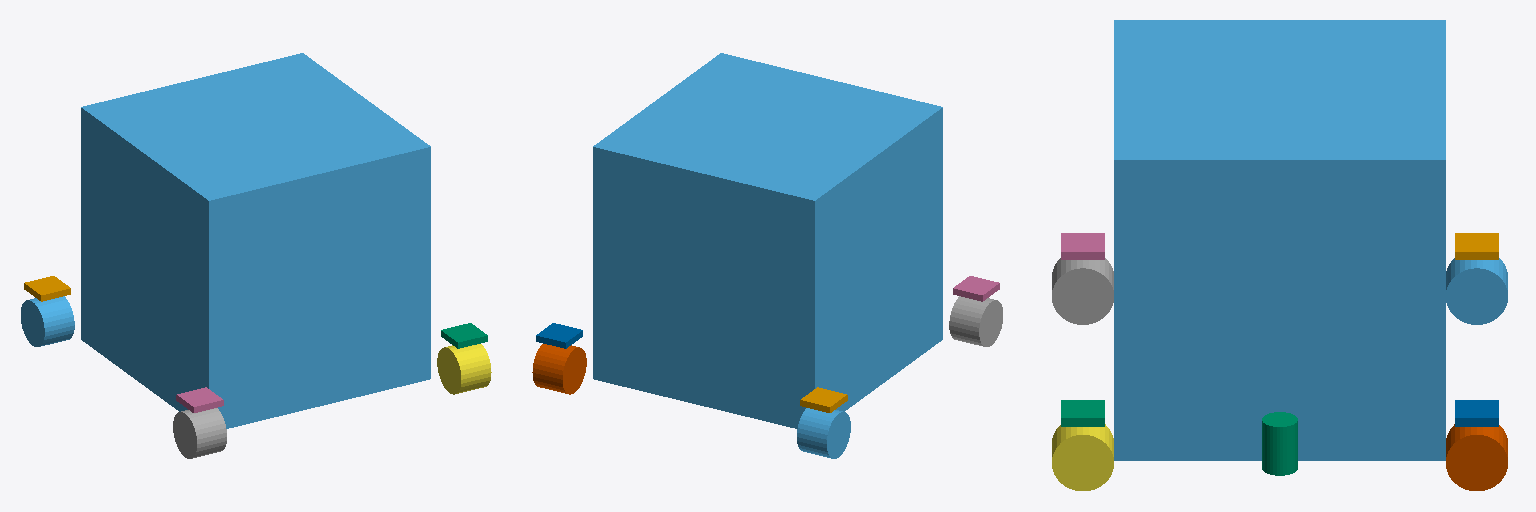
URDF robot description (rr_swerve):
<?xml version="1.0" ?>
<!-- =================================================================================== -->
<!-- |    This document was autogenerated by xacro from swerve_robot.urdf.xacro        | -->
<!-- |    EDITING THIS FILE BY HAND IS NOT RECOMMENDED                                 | -->
<!-- =================================================================================== -->
<robot name="rr_swerve">
  <link name="base_link"/>
  <link name="body">
    <visual>
      <geometry>
        <box size="0.37 0.37 0.37"/>
      </geometry>
    </visual>
    <collision>
      <geometry>
        <box size="0.3515 0.3515 0.3515"/>
      </geometry>
    </collision>
    <inertial>
      <origin rpy="0 0 0" xyz="0 0 0"/>
      <mass value="10"/>
      <inertia ixx="0.22816666666666666" ixy="0" ixz="0" iyx="0" iyy="0.22816666666666666" iyz="0" izx="0" izy="0" izz="0.22816666666666666"/>
    </inertial>
  </link>
  <joint name="base_body_joint" type="fixed">
    <parent link="base_link"/>
    <child link="body"/>
    <origin rpy="0 0 0" xyz="0 0 0.195"/>
    <!-- <limit lower="0" upper="0" effort="0" velocity="0" /> -->
  </joint>
  <link name="wheel_rf_round_table">
    <visual>
      <geometry>
        <box size="0.05 0.01 0.05"/>
      </geometry>
    </visual>
    <collision>
      <geometry>
        <box size="0.0475 0.0095 0.0475"/>
      </geometry>
    </collision>
    <inertial>
      <origin rpy="0 0 0" xyz="0 0 0"/>
      <mass value="0.1"/>
      <inertia ixx="2.166666666666667e-05" ixy="0" ixz="0" iyx="0" iyy="4.166666666666667e-05" iyz="0" izx="0" izy="0" izz="2.166666666666667e-05"/>
    </inertial>
  </link>
  <link name="wheel_rf">
    <visual>
      <geometry>
        <cylinder length="0.05" radius="0.035"/>
      </geometry>
    </visual>
    <collision>
      <geometry>
        <cylinder length="0.05" radius="0.035"/>
      </geometry>
      <surface>
        <friction>
          <ode>
            <mu>1</mu>
            <mu2>1</mu2>
            <slip1>0.035</slip1>
            <slip2>0</slip2>
            <fdir1>0 0 1</fdir1>
          </ode>
        </friction>
      </surface>
    </collision>
    <inertial>
      <origin rpy="0 0 0" xyz="0 0 0"/>
      <mass value="0.5"/>
      <inertia ixx="0.00025729166666666674" ixy="0" ixz="0" iyx="0" iyy="0.00025729166666666674" iyz="0" izx="0" izy="0" izz="0.00030625000000000004"/>
    </inertial>
  </link>
  <joint name="wheel_rf_joint" type="continuous">
    <parent link="wheel_rf_round_table"/>
    <child link="wheel_rf"/>
    <origin rpy="0 1.5707963267948966 0" xyz="0.0 -0.05 0.0"/>
    <!--z: position from base_link - position from body-->
    <axis xyz="0 0 -1"/>
    <limit effort="6.0" velocity="60.0"/>
    <!-- maximum torqe(<8.82), maximum velocity-->
    <dynamics damping="0.1"/>
  </joint>
  <joint name="wheel_rf_angular_joint" type="continuous">
    <parent link="base_link"/>
    <child link="wheel_rf_round_table"/>
    <origin rpy="1.5707963267948966 0 0" xyz="0.22 -0.22 0.085"/>
    <!--z: position from base_link - position from body-->
    <axis xyz="0 1 0"/>
    <limit effort="6.0" velocity="12.0"/>
    <!-- maximum torqe(<8.82), maximum velocity-->
    <dynamics damping="0.1"/>
  </joint>
  <gazebo>
    <plugin filename="ignition-gazebo-joint-controller-system" name="ignition::gazebo::systems::JointController">
      <joint_name>wheel_rf_joint</joint_name>
      <joint_name>wheel_rf_angular_joint</joint_name>
    </plugin>
  </gazebo>
  <link name="wheel_lf_round_table">
    <visual>
      <geometry>
        <box size="0.05 0.01 0.05"/>
      </geometry>
    </visual>
    <collision>
      <geometry>
        <box size="0.0475 0.0095 0.0475"/>
      </geometry>
    </collision>
    <inertial>
      <origin rpy="0 0 0" xyz="0 0 0"/>
      <mass value="0.1"/>
      <inertia ixx="2.166666666666667e-05" ixy="0" ixz="0" iyx="0" iyy="4.166666666666667e-05" iyz="0" izx="0" izy="0" izz="2.166666666666667e-05"/>
    </inertial>
  </link>
  <link name="wheel_lf">
    <visual>
      <geometry>
        <cylinder length="0.05" radius="0.035"/>
      </geometry>
    </visual>
    <collision>
      <geometry>
        <cylinder length="0.05" radius="0.035"/>
      </geometry>
      <surface>
        <friction>
          <ode>
            <mu>1</mu>
            <mu2>1</mu2>
            <slip1>0.035</slip1>
            <slip2>0</slip2>
            <fdir1>0 0 1</fdir1>
          </ode>
        </friction>
      </surface>
    </collision>
    <inertial>
      <origin rpy="0 0 0" xyz="0 0 0"/>
      <mass value="0.5"/>
      <inertia ixx="0.00025729166666666674" ixy="0" ixz="0" iyx="0" iyy="0.00025729166666666674" iyz="0" izx="0" izy="0" izz="0.00030625000000000004"/>
    </inertial>
  </link>
  <joint name="wheel_lf_joint" type="continuous">
    <parent link="wheel_lf_round_table"/>
    <child link="wheel_lf"/>
    <origin rpy="0 1.5707963267948966 0" xyz="0.0 -0.05 0.0"/>
    <!--z: position from base_link - position from body-->
    <axis xyz="0 0 -1"/>
    <limit effort="6.0" velocity="60.0"/>
    <!-- maximum torqe(<8.82), maximum velocity-->
    <dynamics damping="0.1"/>
  </joint>
  <joint name="wheel_lf_angular_joint" type="continuous">
    <parent link="base_link"/>
    <child link="wheel_lf_round_table"/>
    <origin rpy="1.5707963267948966 0 0" xyz="0.22 0.22 0.085"/>
    <axis xyz="0 1 0"/>
    <limit effort="6.0" velocity="12.0"/>
    <!-- maximum torqe(<8.82), maximum velocity-->
    <dynamics damping="0.1"/>
  </joint>
  <gazebo>
    <plugin filename="ignition-gazebo-joint-controller-system" name="ignition::gazebo::systems::JointController">
      <joint_name>wheel_lf_joint</joint_name>
      <joint_name>wheel_lf_angular_joint</joint_name>
    </plugin>
  </gazebo>
  <link name="wheel_rb_round_table">
    <visual>
      <geometry>
        <box size="0.05 0.01 0.05"/>
      </geometry>
    </visual>
    <collision>
      <geometry>
        <box size="0.0475 0.0095 0.0475"/>
      </geometry>
    </collision>
    <inertial>
      <origin rpy="0 0 0" xyz="0 0 0"/>
      <mass value="0.1"/>
      <inertia ixx="2.166666666666667e-05" ixy="0" ixz="0" iyx="0" iyy="4.166666666666667e-05" iyz="0" izx="0" izy="0" izz="2.166666666666667e-05"/>
    </inertial>
  </link>
  <link name="wheel_rb">
    <visual>
      <geometry>
        <cylinder length="0.05" radius="0.035"/>
      </geometry>
    </visual>
    <collision>
      <geometry>
        <cylinder length="0.05" radius="0.035"/>
      </geometry>
      <surface>
        <friction>
          <ode>
            <mu>1</mu>
            <mu2>1</mu2>
            <slip1>0.035</slip1>
            <slip2>0</slip2>
            <fdir1>0 0 1</fdir1>
          </ode>
        </friction>
      </surface>
    </collision>
    <inertial>
      <origin rpy="0 0 0" xyz="0 0 0"/>
      <mass value="0.5"/>
      <inertia ixx="0.00025729166666666674" ixy="0" ixz="0" iyx="0" iyy="0.00025729166666666674" iyz="0" izx="0" izy="0" izz="0.00030625000000000004"/>
    </inertial>
  </link>
  <joint name="wheel_rb_joint" type="continuous">
    <parent link="wheel_rb_round_table"/>
    <child link="wheel_rb"/>
    <origin rpy="0 1.5707963267948966 0" xyz="0.0 -0.05 0.0"/>
    <!--z: position from base_link - position from body-->
    <axis xyz="0 0 -1"/>
    <limit effort="6.0" velocity="60.0"/>
    <!-- maximum torqe(<8.82), maximum velocity-->
    <dynamics damping="0.1"/>
  </joint>
  <joint name="wheel_rb_angular_joint" type="continuous">
    <parent link="base_link"/>
    <child link="wheel_rb_round_table"/>
    <origin rpy="1.5707963267948966 0 0" xyz="-0.22 -0.22 0.085"/>
    <!--z: position from base_link - position from body-->
    <axis xyz="0 1 0"/>
    <limit effort="6.0" velocity="12.0"/>
    <!-- maximum torqe(<8.82), maximum velocity-->
    <dynamics damping="0.1"/>
  </joint>
  <gazebo>
    <plugin filename="ignition-gazebo-joint-controller-system" name="ignition::gazebo::systems::JointController">
      <joint_name>wheel_rb_joint</joint_name>
      <joint_name>wheel_rb_angular_joint</joint_name>
    </plugin>
  </gazebo>
  <link name="wheel_lb_round_table">
    <visual>
      <geometry>
        <box size="0.05 0.01 0.05"/>
      </geometry>
    </visual>
    <collision>
      <geometry>
        <box size="0.0475 0.0095 0.0475"/>
      </geometry>
    </collision>
    <inertial>
      <origin rpy="0 0 0" xyz="0 0 0"/>
      <mass value="0.1"/>
      <inertia ixx="2.166666666666667e-05" ixy="0" ixz="0" iyx="0" iyy="4.166666666666667e-05" iyz="0" izx="0" izy="0" izz="2.166666666666667e-05"/>
    </inertial>
  </link>
  <link name="wheel_lb">
    <visual>
      <geometry>
        <cylinder length="0.05" radius="0.035"/>
      </geometry>
    </visual>
    <collision>
      <geometry>
        <cylinder length="0.05" radius="0.035"/>
      </geometry>
      <surface>
        <friction>
          <ode>
            <mu>1</mu>
            <mu2>1</mu2>
            <slip1>0.035</slip1>
            <slip2>0</slip2>
            <fdir1>0 0 1</fdir1>
          </ode>
        </friction>
      </surface>
    </collision>
    <inertial>
      <origin rpy="0 0 0" xyz="0 0 0"/>
      <mass value="0.5"/>
      <inertia ixx="0.00025729166666666674" ixy="0" ixz="0" iyx="0" iyy="0.00025729166666666674" iyz="0" izx="0" izy="0" izz="0.00030625000000000004"/>
    </inertial>
  </link>
  <joint name="wheel_lb_joint" type="continuous">
    <parent link="wheel_lb_round_table"/>
    <child link="wheel_lb"/>
    <origin rpy="0 1.5707963267948966 0" xyz="0.0 -0.05 0.0"/>
    <!--z: position from base_link - position from body-->
    <axis xyz="0 0 -1"/>
    <limit effort="6.0" velocity="60.0"/>
    <!-- maximum torqe(<8.82), maximum velocity-->
    <dynamics damping="0.1"/>
  </joint>
  <joint name="wheel_lb_angular_joint" type="continuous">
    <parent link="base_link"/>
    <child link="wheel_lb_round_table"/>
    <origin rpy="1.5707963267948966 0 0" xyz="-0.22 0.22 0.085"/>
    <axis xyz="0 1 0"/>
    <limit effort="6.0" velocity="12.0"/>
    <!-- maximum torqe(<8.82), maximum velocity-->
    <dynamics damping="0.1"/>
  </joint>
  <gazebo>
    <plugin filename="ignition-gazebo-joint-controller-system" name="ignition::gazebo::systems::JointController">
      <joint_name>wheel_lb_joint</joint_name>
      <joint_name>wheel_lb_angular_joint</joint_name>
    </plugin>
  </gazebo>
  <!-- <xacro:property name="radians" value="0.017453292519943295"/> -->
  <joint name="lidar_joint" type="revolute">
    <parent link="base_link"/>
    <child link="lidar_link"/>
    <origin rpy="0 0 0" xyz="0.205 0 0.04"/>
    <limit effort="0" lower="0" upper="0" velocity="0"/>
  </joint>
  <link name="lidar_link">
    <visual>
      <origin rpy="0 0 0" xyz="0 0 0"/>
      <geometry>
        <cylinder length="0.06" radius="0.02"/>
      </geometry>
    </visual>
    <collision>
      <origin rpy="0 0 0" xyz="0 0 0"/>
      <geometry>
        <cylinder length="0.06" radius="0.02"/>
      </geometry>
    </collision>
    <inertial>
      <origin rpy="0 0 0" xyz="0 0 0"/>
      <mass value="0.2"/>
      <inertia ixx="0.0001" ixy="0" ixz="0" iyx="0" iyy="0.0001" iyz="0" izx="0" izy="0" izz="0.0001"/>
    </inertial>
    <sensor name="lidar" type="gpu_lidar">
      <pose>0 0 0 0 0 0</pose>
      <visualize>false</visualize>
      <update_rate>10</update_rate>
      <lidar>
        <scan>
          <horizontal>
            <samples>400</samples>
            <resolution>1</resolution>
            <min_angle>-3.05433</min_angle>
            <max_angle>3.05433</max_angle>
          </horizontal>
        </scan>
        <range>
          <min>0.10</min>
          <max>20.0</max>
          <resolution>0.01</resolution>
        </range>
        <noise>
          <type>gaussian</type>
          <mean>0.0</mean>
          <stddev>0.01</stddev>
        </noise>
      </lidar>
    </sensor>
  </link>
  <gazebo>

        </gazebo>
  <joint name="imu_joint" type="revolute">
    <parent link="base_link"/>
    <child link="imu_link"/>
    <origin rpy="0 0 0" xyz="0.0 0 0.10"/>
    <limit effort="0" lower="0" upper="0" velocity="0"/>
  </joint>
  <link name="imu_link">
    <visual>
      <geometry>
        <box size="0.1 0.1 0.1"/>
      </geometry>
    </visual>
    <collision>
      <geometry>
        <box size="0.1 0.1 0.1"/>
      </geometry>
    </collision>
    <inertial>
      <origin rpy="0 0 0" xyz="0 0 0"/>
      <mass value="0.1"/>
      <inertia ixx="0.0001" ixy="0" ixz="0" iyx="0" iyy="0.0001" iyz="0" izx="0" izy="0" izz="0.0001"/>
    </inertial>
  </link>
  <gazebo>
    <sensor name="imu_sensor" type="imu">
      <always_on>true</always_on>
      <update_rate>100</update_rate>
      <visualize>true</visualize>
      <topic>imu</topic>
      <pose>0 0 0 0 0 0</pose>
    </sensor>
    <plugin filename="ignition-gazebo-imu-system" name="ignition::gazebo::systems::Imu">
      <imu_name>imu_sensor</imu_name>
      <topic>imu</topic>
      <frame_name>imu_link</frame_name>
      <linear_acceleration>
        <x>
          <noise type="gaussian">
            <mean>0</mean>
            <stddev>0.0001</stddev>
            <bias_mean>0.0001</bias_mean>
            <bias_stddev>0.0001</bias_stddev>
            <dynamic_bias_stddev>0.0001</dynamic_bias_stddev>
            <dynamic_bias_correlation_time>1000.0</dynamic_bias_correlation_time>
            <precision>0.0001</precision>
          </noise>
        </x>
        <y>
          <noise type="gaussian">
            <mean>0</mean>
            <stddev>0.0001</stddev>
            <bias_mean>0.0001</bias_mean>
            <bias_stddev>0.0001</bias_stddev>
            <dynamic_bias_stddev>0.0001</dynamic_bias_stddev>
            <dynamic_bias_correlation_time>1000.0</dynamic_bias_correlation_time>
            <precision>0.0001</precision>
          </noise>
        </y>
        <z>
          <noise type="gaussian">
            <mean>0</mean>
            <stddev>0.0001</stddev>
            <bias_mean>0.0001</bias_mean>
            <bias_stddev>0.0001</bias_stddev>
            <dynamic_bias_stddev>0.0001</dynamic_bias_stddev>
            <dynamic_bias_correlation_time>1000.0</dynamic_bias_correlation_time>
            <precision>0.0001</precision>
          </noise>
        </z>
      </linear_acceleration>
      <angular_velocity>
        <x>
          <noise type="gaussian">
            <mean>0</mean>
            <stddev>0.0001</stddev>
            <bias_mean>0.0001</bias_mean>
            <bias_stddev>0.0001</bias_stddev>
            <dynamic_bias_stddev>0.0001</dynamic_bias_stddev>
            <dynamic_bias_correlation_time>1000.0</dynamic_bias_correlation_time>
            <precision>0.0001</precision>
          </noise>
        </x>
        <y>
          <noise type="gaussian">
            <mean>0</mean>
            <stddev>0.0001</stddev>
            <bias_mean>0.0001</bias_mean>
            <bias_stddev>0.0001</bias_stddev>
            <dynamic_bias_stddev>0.0001</dynamic_bias_stddev>
            <dynamic_bias_correlation_time>1000.0</dynamic_bias_correlation_time>
            <precision>0.0001</precision>
          </noise>
        </y>
        <z>
          <noise type="gaussian">
            <mean>0</mean>
            <stddev>0.0001</stddev>
            <bias_mean>0.0001</bias_mean>
            <bias_stddev>0.0001</bias_stddev>
            <dynamic_bias_stddev>0.0001</dynamic_bias_stddev>
            <dynamic_bias_correlation_time>1000.0</dynamic_bias_correlation_time>
            <precision>0.0001</precision>
          </noise>
        </z>
      </angular_velocity>
      <orientation>
        <x>
          <noise type="gaussian">
            <mean>0</mean>
            <stddev>0.0001</stddev>
            <bias_mean>0.0001</bias_mean>
            <bias_stddev>0.0001</bias_stddev>
            <dynamic_bias_stddev>0.0001</dynamic_bias_stddev>
            <dynamic_bias_correlation_time>1000.0</dynamic_bias_correlation_time>
            <precision>0.0001</precision>
          </noise>
        </x>
        <y>
          <noise type="gaussian">
            <mean>0</mean>
            <stddev>0.0001</stddev>
            <bias_mean>0.0001</bias_mean>
            <bias_stddev>0.0001</bias_stddev>
            <dynamic_bias_stddev>0.0001</dynamic_bias_stddev>
            <dynamic_bias_correlation_time>1000.0</dynamic_bias_correlation_time>
            <precision>0.0001</precision>
          </noise>
        </y>
        <z>
          <noise type="gaussian">
            <mean>0</mean>
            <stddev>0.0001</stddev>
            <bias_mean>0.0001</bias_mean>
            <bias_stddev>0.0001</bias_stddev>
            <dynamic_bias_stddev>0.0001</dynamic_bias_stddev>
            <dynamic_bias_correlation_time>1000.0</dynamic_bias_correlation_time>
            <precision>0.0001</precision>
          </noise>
        </z>
      </orientation>
    </plugin>
  </gazebo>
</robot>

--- What the picture shows (computed from the rendered views, not written in the file) ---
3 views of the same robot in one strip: view 1: azimuth 30°, elevation 25°; view 2: azimuth 150°, elevation 25°; view 3: azimuth 270°, elevation 25° (orthographic).
Model rr_swerve with 12 links and 11 joints (2 revolute, 8 continuous, 1 fixed), rooted at base_link, posed every joint at zero.
Visible links, largest first — view 1: body, wheel_rb, wheel_rf, wheel_lb, wheel_rb_round_table, wheel_rf_round_table, wheel_lb_round_table; view 2: body, wheel_lb, wheel_lf, wheel_rb, wheel_lb_round_table, wheel_lf_round_table, wheel_rb_round_table; view 3: body, wheel_rb, wheel_lb, wheel_rf, wheel_lf, lidar_link, wheel_rf_round_table, wheel_lf_round_table, wheel_rb_round_table, wheel_lb_round_table.
Link boxes in pixels (x1=…): body: x1=81, y1=53, x2=430, y2=428; wheel_rb: x1=173, y1=408, x2=226, y2=458; wheel_rf: x1=437, y1=344, x2=491, y2=394; wheel_lb: x1=21, y1=296, x2=74, y2=346; wheel_rb_round_table: x1=176, y1=387, x2=223, y2=412; wheel_rf_round_table: x1=441, y1=323, x2=487, y2=348; wheel_lb_round_table: x1=24, y1=276, x2=70, y2=301; body: x1=593, y1=53, x2=942, y2=428; wheel_lb: x1=797, y1=408, x2=850, y2=458; wheel_lf: x1=532, y1=344, x2=586, y2=394; wheel_rb: x1=949, y1=296, x2=1002, y2=346; wheel_lb_round_table: x1=800, y1=387, x2=847, y2=412; wheel_lf_round_table: x1=536, y1=323, x2=582, y2=348; wheel_rb_round_table: x1=953, y1=276, x2=999, y2=301; body: x1=1114, y1=20, x2=1445, y2=460; wheel_rb: x1=1052, y1=258, x2=1113, y2=324; wheel_lb: x1=1446, y1=258, x2=1507, y2=324; wheel_rf: x1=1052, y1=424, x2=1113, y2=490; wheel_lf: x1=1446, y1=424, x2=1507, y2=490; lidar_link: x1=1262, y1=412, x2=1297, y2=475; wheel_rf_round_table: x1=1061, y1=400, x2=1104, y2=426; wheel_lf_round_table: x1=1455, y1=400, x2=1498, y2=426; wheel_rb_round_table: x1=1061, y1=233, x2=1104, y2=259; wheel_lb_round_table: x1=1455, y1=233, x2=1498, y2=259.
Size in the robot's own frame: 0.49 by 0.51 by 0.38 metres.
Geometry: primitives only (box / cylinder / sphere), no mesh files.